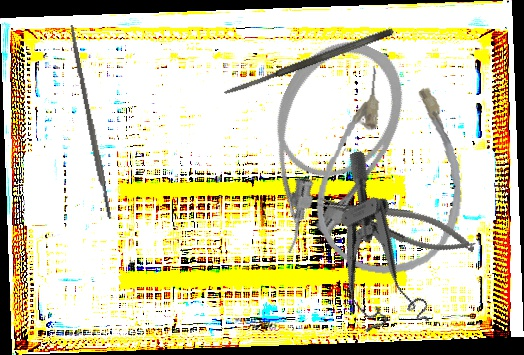Cannula: (220, 21, 426, 272), (306, 60, 480, 284)
Needle Holder: (314, 180, 480, 266)
Scalpel Handle: (67, 24, 113, 220)
Spatula Surgical: (220, 26, 396, 98)
Speculum: (291, 148, 445, 349)
